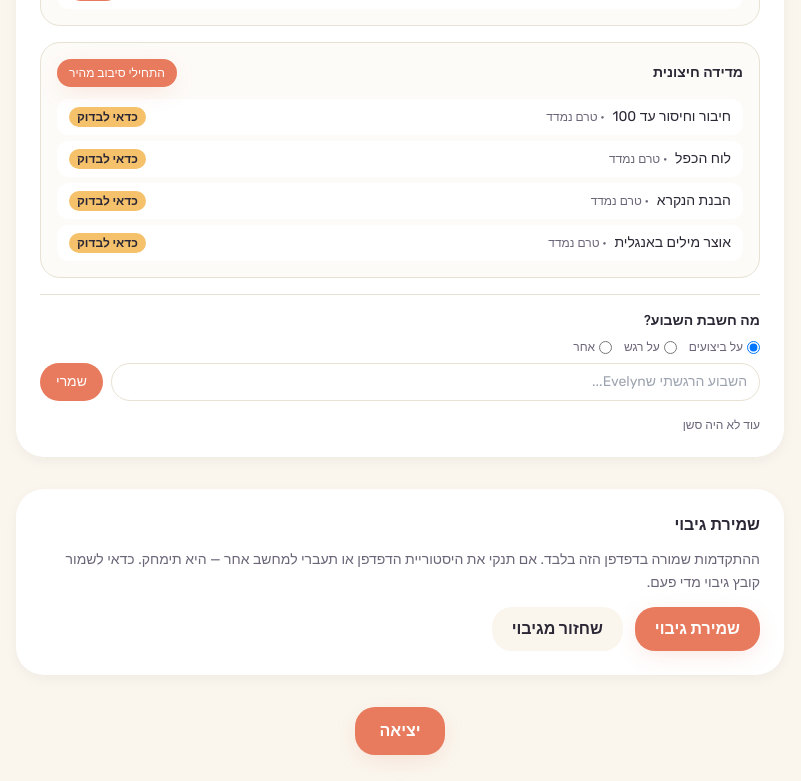
<ParentDashboard> — belief form › submits belief → display swaps to comparison block
The image size is (801, 781).
(page scrolled)
Type "נראית נהנית" into the field with placeholder "השבוע הרגשתי ש" at (436, 382), box [111,363,760,401]
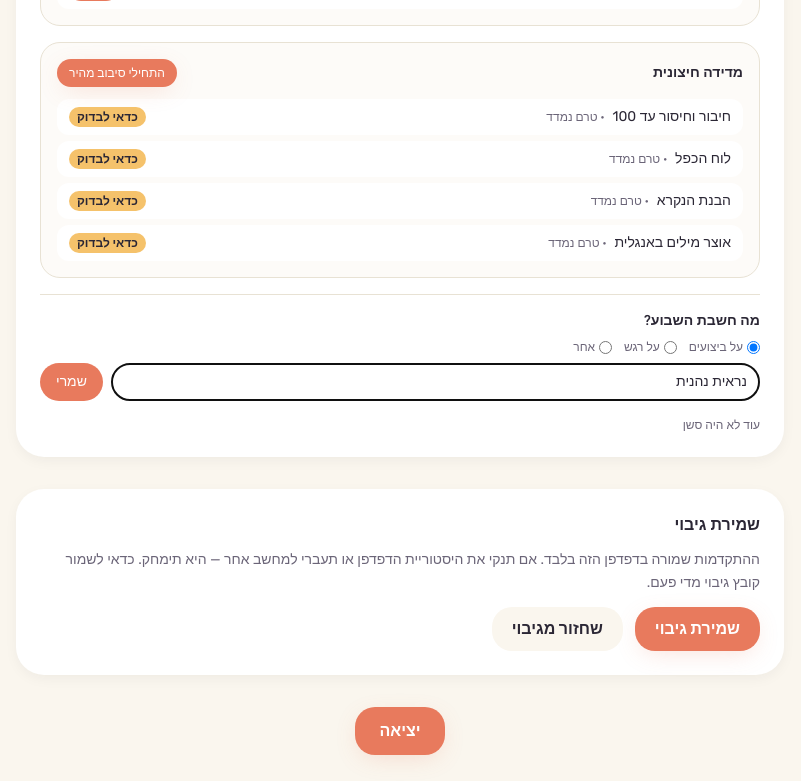
Click the button "שמרי" at (72, 382), box [40,363,103,401]
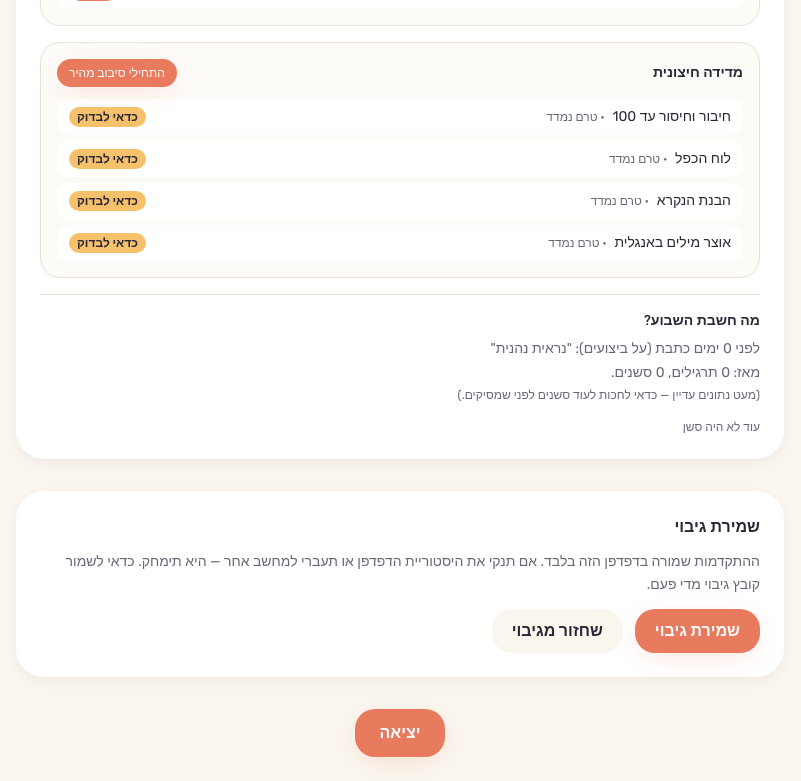
Expected: the field with placeholder "השבוע הרגשתי ש" is not shown
Expected: the text "לפני 0 ימים כתבת (על ביצועים): \"נראית נהנית\"" is shown, [490,340,760,357]
